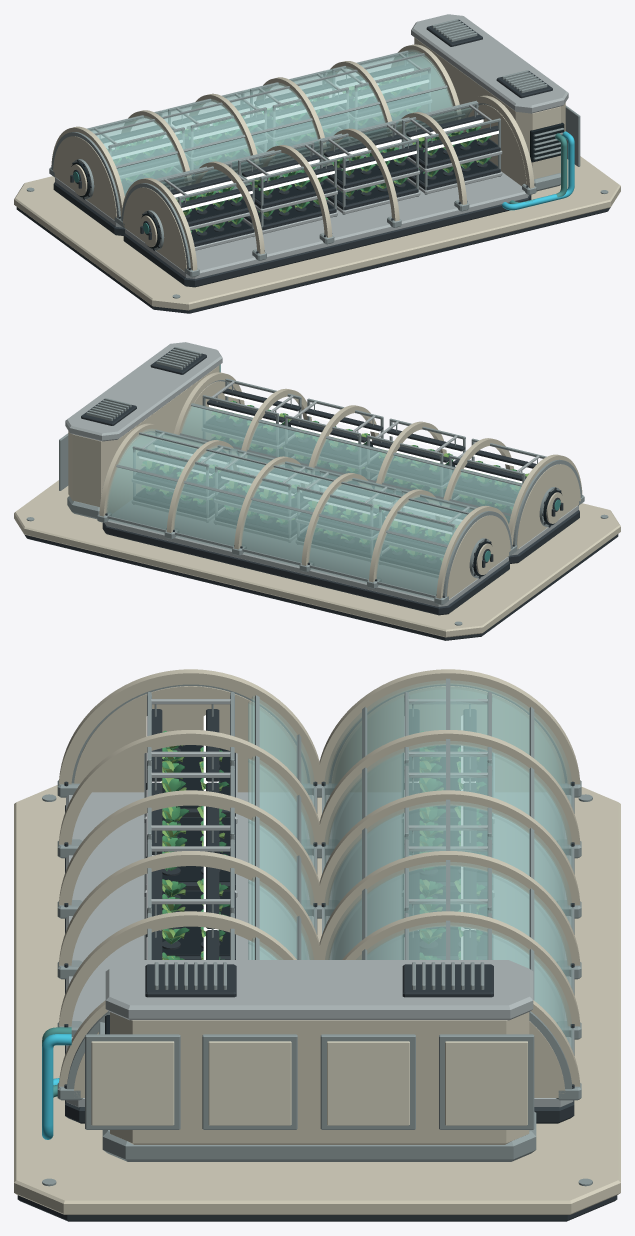
The model's file is p0_b2_greenhouse_cutaway_25kw_12h.glb.
3 renders of one model, top to bottom at view 1: azimuth 30°, elevation 25°; view 2: azimuth 150°, elevation 25°; view 3: azimuth 270°, elevation 25°, orthographic. The views are drawn at different scales.
Visible parts, largest first — view 1: Glazing (×2), Chamfered apron, Sectioned front hall, Six structural ribs (×2), East service module, End bulkheads (×2), Seedlings (×8), Hall 1 rack 4, Hall 1 rack 3, Hall 1 rack 2, Glazing frames (×2), Hall 1 rack 1 (+17 smaller); view 2: Glazing (×2), Chamfered apron, Enclosed rear hall, Six structural ribs (×2), East service module, End bulkheads (×2), Glazing frames (×2), Seedlings (×8), Hall 2 rack 4, Hall 2 rack 3, Hall 2 rack 2, Hall 2 rack 1 (+16 smaller); view 3: Chamfered apron, Glazing (×2), Six structural ribs (×2), East service module, Access panels, End bulkheads (×2), Sectioned front hall, Enclosed rear hall, Glazing frames (×2), Seedlings (×6), Rib footings (×2), Hall 1 rack 3 (+14 smaller).
Part boxes in pixels (x1=…): Glazing (×2): x1=87, y1=50, x2=478, y2=200; Chamfered apron: x1=14, y1=156, x2=620, y2=313; Sectioned front hall: x1=123, y1=171, x2=531, y2=287; Six structural ribs (×2): x1=51, y1=44, x2=534, y2=270; East service module: x1=411, y1=14, x2=568, y2=191; End bulkheads (×2): x1=51, y1=52, x2=531, y2=272; Seedlings (×8): x1=107, y1=75, x2=491, y2=232; Hall 1 rack 4: x1=402, y1=102, x2=502, y2=194; Hall 1 rack 3: x1=320, y1=122, x2=420, y2=214; Hall 1 rack 2: x1=238, y1=142, x2=337, y2=234; Glazing frames (×2): x1=94, y1=53, x2=476, y2=187; Hall 1 rack 1: x1=157, y1=162, x2=255, y2=250; Glazing (×2): x1=106, y1=403, x2=522, y2=599; Chamfered apron: x1=14, y1=480, x2=620, y2=640; Enclosed rear hall: x1=102, y1=500, x2=509, y2=615; Six structural ribs (×2): x1=99, y1=372, x2=582, y2=598; East service module: x1=65, y1=342, x2=222, y2=519; End bulkheads (×2): x1=101, y1=380, x2=582, y2=599; Glazing frames (×2): x1=107, y1=403, x2=522, y2=597; Seedlings (×8): x1=142, y1=400, x2=528, y2=560; Hall 2 rack 4: x1=132, y1=429, x2=231, y2=522; Hall 2 rack 3: x1=214, y1=449, x2=313, y2=542; Hall 2 rack 2: x1=296, y1=470, x2=395, y2=561; Hall 2 rack 1: x1=379, y1=490, x2=476, y2=577; Chamfered apron: x1=14, y1=785, x2=620, y2=1221; Glazing (×2): x1=248, y1=680, x2=571, y2=1047; Six structural ribs (×2): x1=59, y1=669, x2=580, y2=1086; East service module: x1=99, y1=960, x2=536, y2=1161; Access panels: x1=85, y1=1034, x2=534, y2=1129; End bulkheads (×2): x1=66, y1=684, x2=572, y2=1097; Sectioned front hall: x1=65, y1=792, x2=313, y2=1123; Enclosed rear hall: x1=325, y1=792, x2=574, y2=1123; Glazing frames (×2): x1=254, y1=678, x2=574, y2=1055; Seedlings (×6): x1=161, y1=730, x2=486, y2=944; Rib footings (×2): x1=57, y1=780, x2=581, y2=1100; Hall 1 rack 3: x1=144, y1=839, x2=237, y2=959.
Size of the model in its own units: 14.4 by 3.12 by 8.77.
